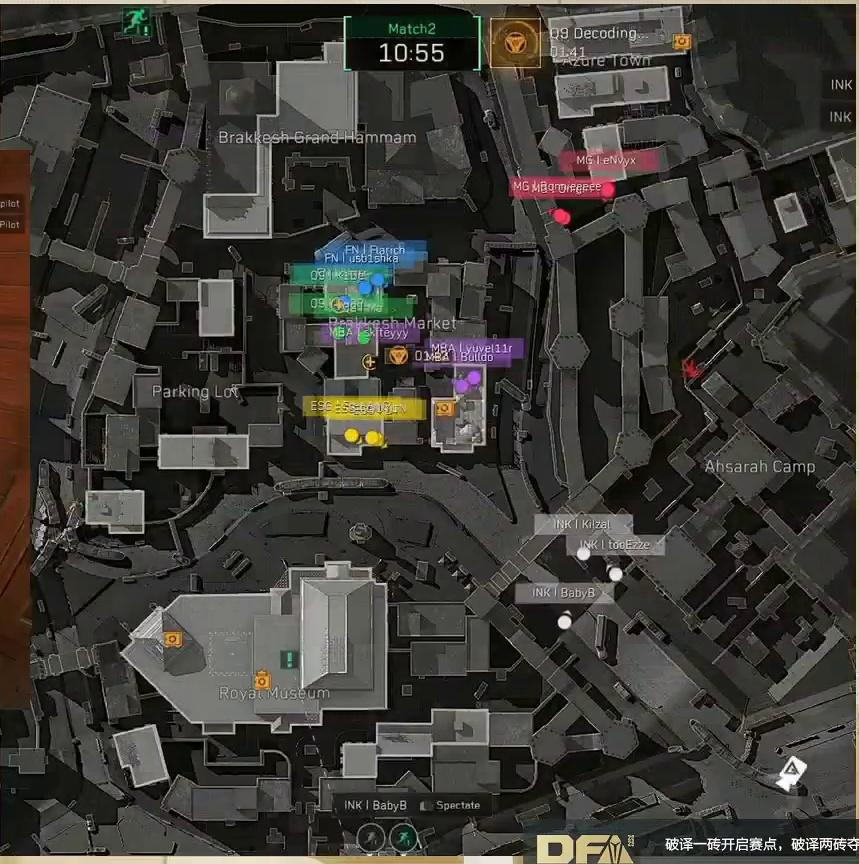white_player: (557, 614, 572, 630), (608, 567, 623, 582), (576, 547, 591, 561)
